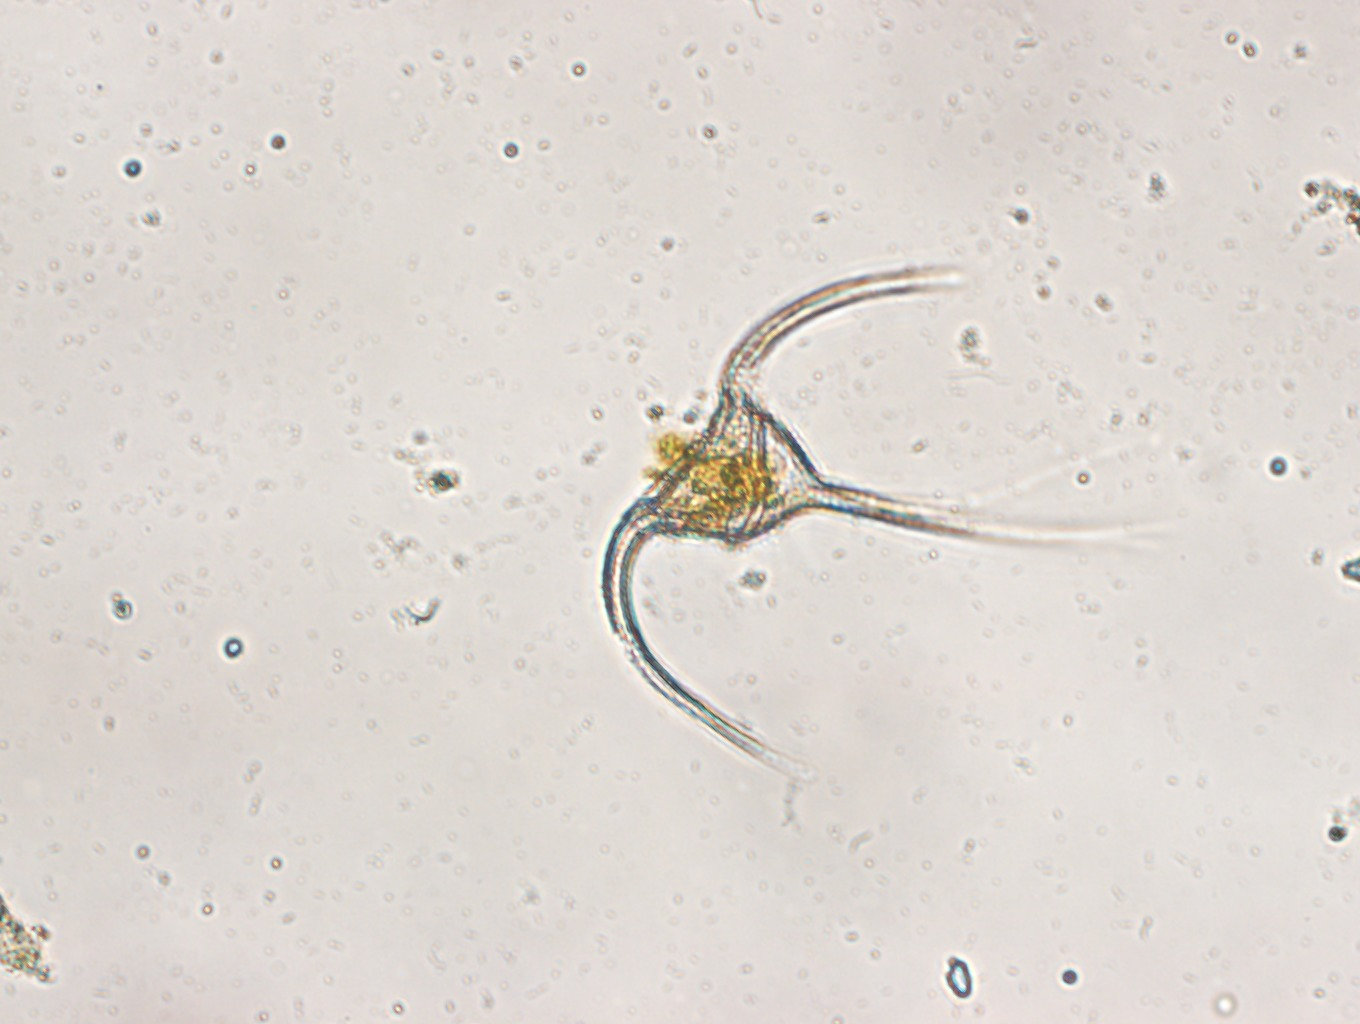ceratium trichoceros: (596, 264, 1145, 779)
